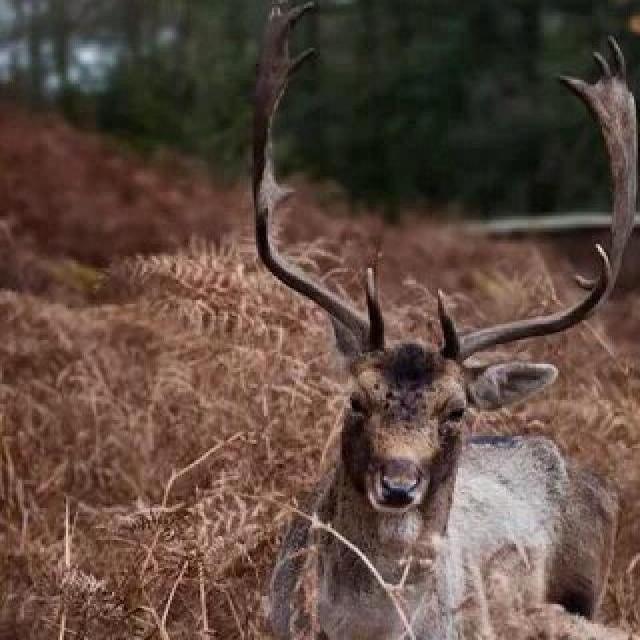deer: (84, 141, 640, 640)
